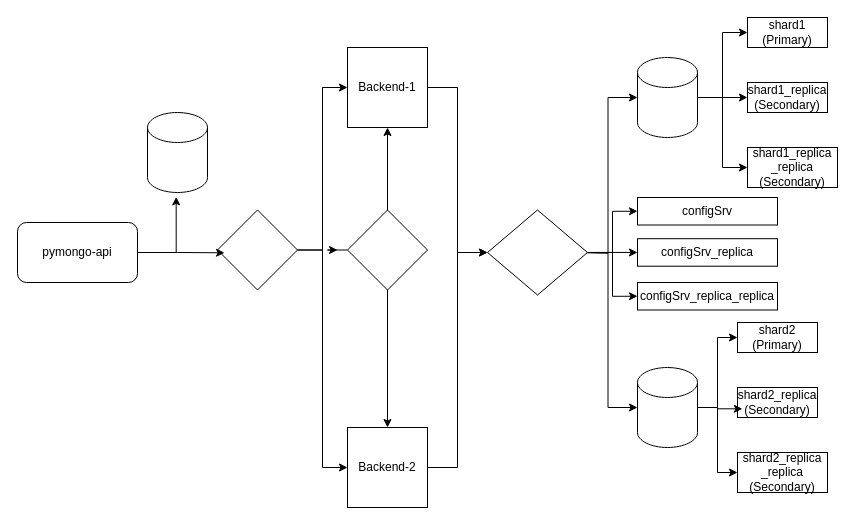
The diagram is 855 pixels wide and 525 high, and some of its shapes have lost their labels. The centre of each missing label's shape, as x and y in pixels:
Api Gateway: pixel 257 249
Consul: pixel 387 249
MongoDB shard1: pixel 667 97
MongoDB shard2: pixel 667 407
mongos_router: pixel 537 252
Redis: pixel 177 152
